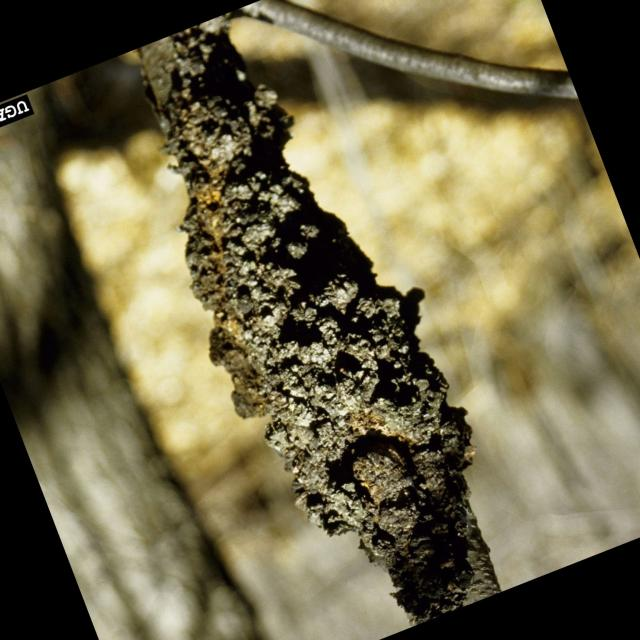Black_knot: (136, 16, 502, 626)
